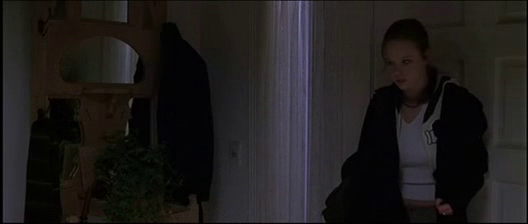face: (383, 49, 419, 89)
ms: (1, 1, 528, 224)
person: (356, 18, 489, 224)
